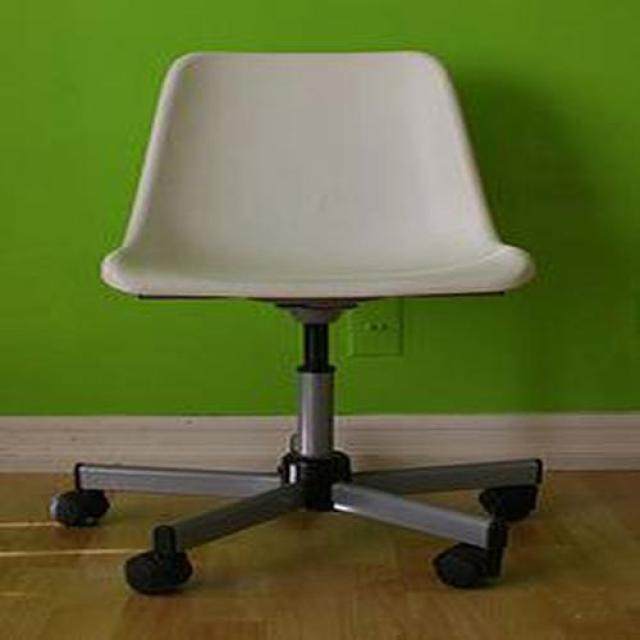swivelchair: (100, 51, 543, 599)
